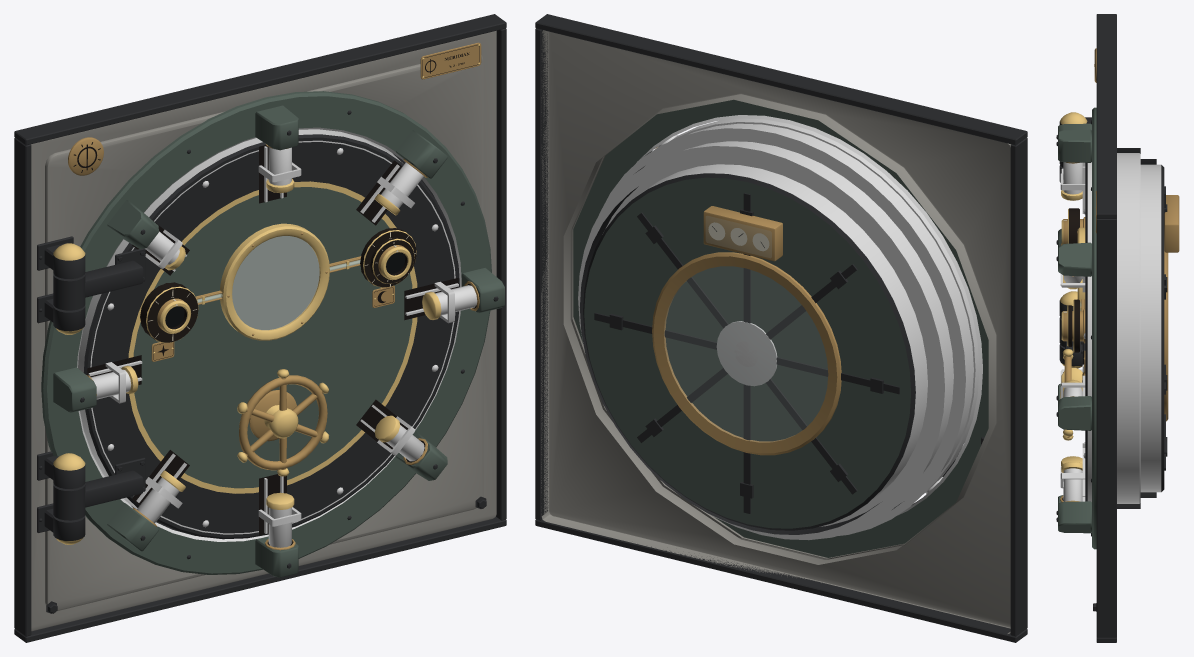
File: vault_door.glb
3 renders of one model, left to right at view 1: azimuth 30°, elevation 25°; view 2: azimuth 150°, elevation 25°; view 3: azimuth 270°, elevation 25°, orthographic. The views are drawn at different scales.
Visible parts, largest first — view 1: vault_frame, IA_vault_door, glass_disc, IA_vault_handle, disc_bezel, IA_collar_left, bolt_6, bolt_0, IA_collar_right, bolt_7, bolt_1, bolt_5 (+6 smaller); view 2: vault_frame, IA_vault_door; view 3: IA_vault_door, vault_frame, bolt_7, bolt_2, IA_port_right, IA_vault_handle, IA_collar_left, IA_collar_right, disc_bezel, IA_zoom_right, bolt_0, IA_port_left.
Boxes of the visible parts, box(x1,y1,x2,y2) form: vault_frame: box(14, 14, 506, 642); IA_vault_door: box(53, 129, 459, 539); glass_disc: box(232, 236, 319, 330); IA_vault_handle: box(237, 369, 329, 476); disc_bezel: box(220, 223, 329, 340); IA_collar_left: box(140, 282, 198, 343); bolt_6: box(266, 492, 294, 547); bolt_0: box(422, 285, 477, 319); IA_collar_right: box(360, 228, 416, 287); bolt_7: box(374, 415, 424, 461); bolt_1: box(374, 162, 423, 215); bolt_5: box(137, 470, 185, 523); vault_frame: box(535, 14, 1027, 642); IA_vault_door: box(583, 118, 979, 530); IA_vault_door: box(1059, 153, 1179, 503); vault_frame: box(1056, 14, 1156, 642); bolt_7: box(1061, 462, 1082, 501); bolt_2: box(1061, 162, 1082, 200); IA_port_right: box(1061, 308, 1085, 343); IA_vault_handle: box(1060, 349, 1073, 440); IA_collar_left: box(1068, 208, 1079, 243); IA_collar_right: box(1073, 299, 1079, 352); disc_bezel: box(1077, 227, 1085, 310); IA_zoom_right: box(1067, 305, 1072, 346); bolt_0: box(1063, 379, 1082, 397); IA_port_left: box(1061, 217, 1085, 244).
Bounding box in the file's own units: 2.4 × 2.4 × 0.6236.
